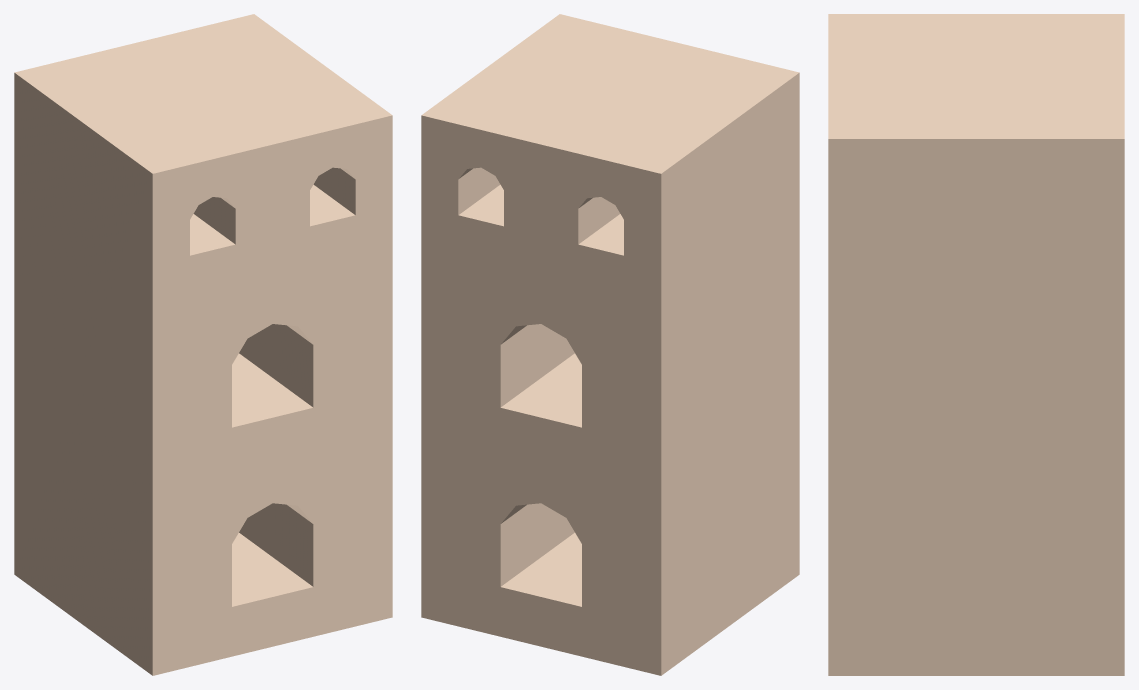
The model's file is Abstract_Modular_Window_Quad_2.0_Beige_01.fbx.
3 views of the same model, side by side, from view 1: azimuth 30°, elevation 25°; view 2: azimuth 150°, elevation 25°; view 3: azimuth 270°, elevation 25° (orthographic). The views are drawn at different scales.
Parts seen in each view (by area): view 1: Abstract_Modular_Window_Quad_2.0_Beige_01; view 2: Abstract_Modular_Window_Quad_2.0_Beige_01; view 3: Abstract_Modular_Window_Quad_2.0_Beige_01.
Boxes of the visible parts, left/top/right/bottom form: Abstract_Modular_Window_Quad_2.0_Beige_01: left=14, top=14, right=392, bottom=675; Abstract_Modular_Window_Quad_2.0_Beige_01: left=421, top=14, right=799, bottom=675; Abstract_Modular_Window_Quad_2.0_Beige_01: left=828, top=14, right=1124, bottom=675.
Bounding box in the file's own units: 3000 × 6000 × 3000.
